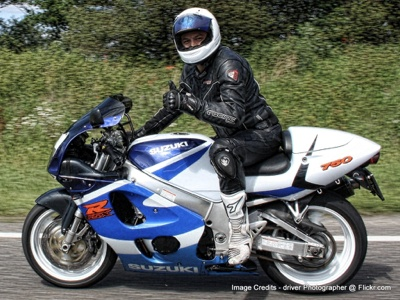helmet: (168, 5, 222, 68)
